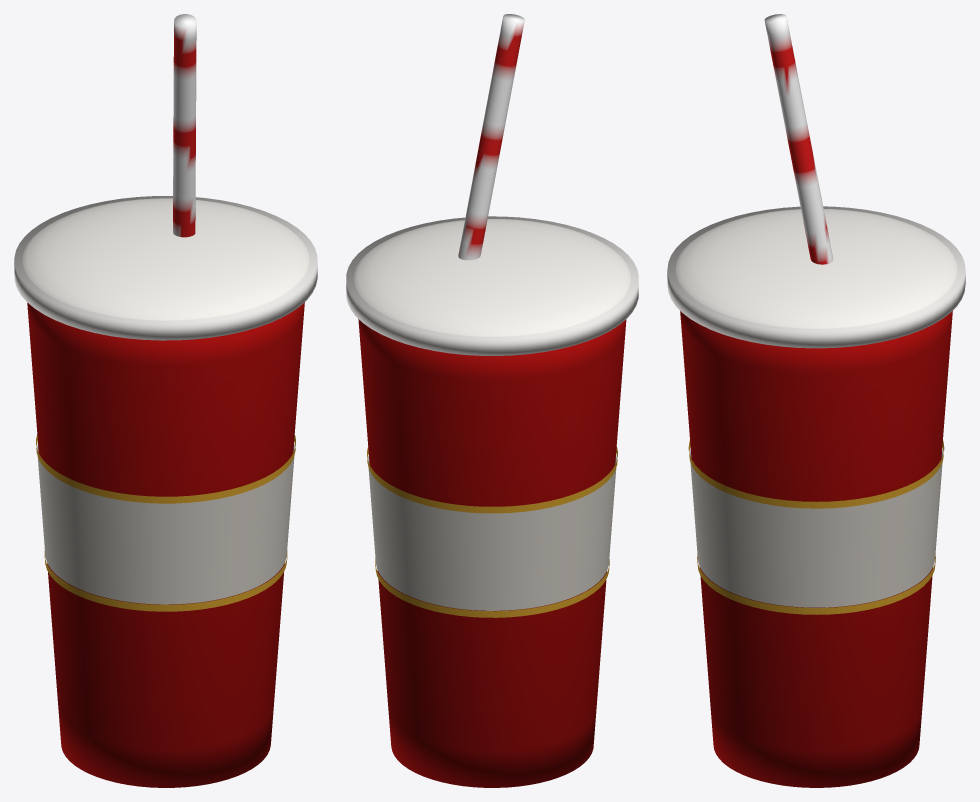
File: drink.glb
3 renders of one model, left to right at view 1: azimuth 30°, elevation 25°; view 2: azimuth 150°, elevation 25°; view 3: azimuth 270°, elevation 25°, orthographic. The views are drawn at different scales.
Visible parts, largest first — view 1: drink; view 2: drink; view 3: drink.
Boxes of the visible parts, bbox=[...] form: drink: bbox=[14, 14, 317, 787]; drink: bbox=[346, 14, 638, 787]; drink: bbox=[667, 14, 965, 787].
Size of the model in its own units: 0.0798 by 0.215 by 0.0798.
